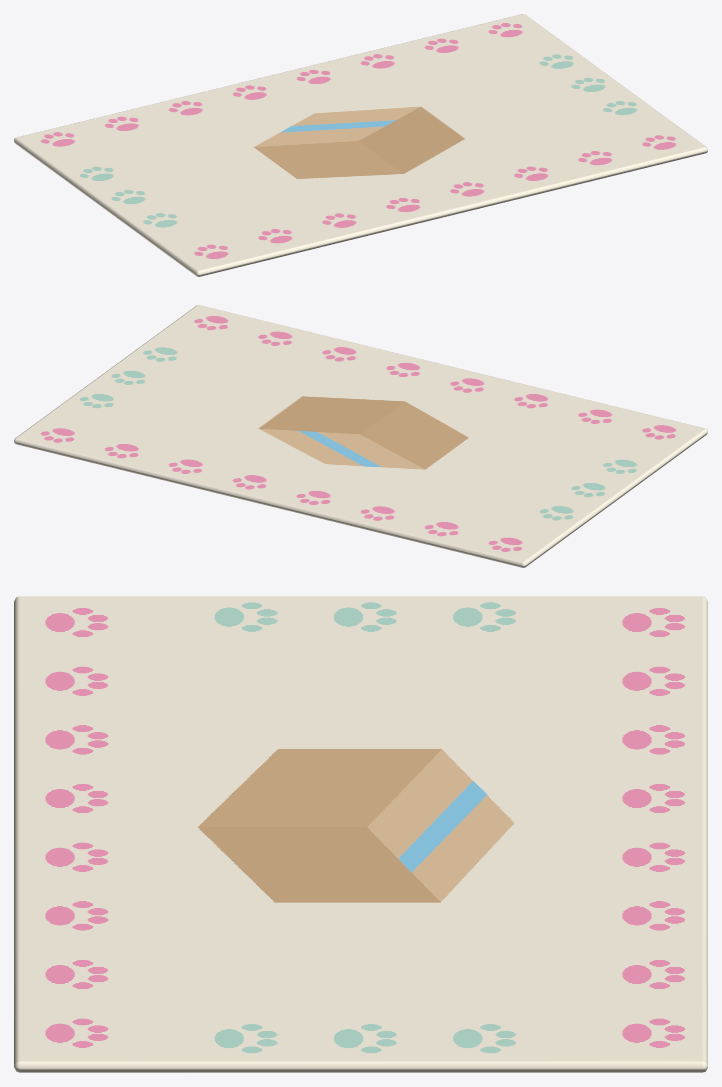
File: delivery_mat.glb
3 renders of one model, top to bottom at view 1: azimuth 30°, elevation 25°; view 2: azimuth 150°, elevation 25°; view 3: azimuth 270°, elevation 25°, orthographic. The views are drawn at different scales.
Parts seen in each view (by area): view 1: Body; view 2: Body; view 3: Body.
Part boxes in pixels (x1=…): Body: x1=14, y1=14, x2=707, y2=276; Body: x1=14, y1=305, x2=707, y2=567; Body: x1=14, y1=596, x2=707, y2=1072.
Bounding box in the file's own units: 1.6 × 0.02 × 1.
2 materials, 2 textured.
